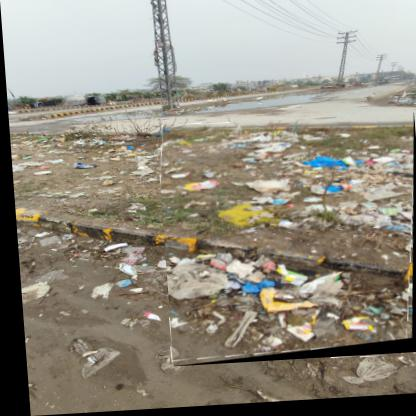Garbage: (154, 118, 416, 371)
